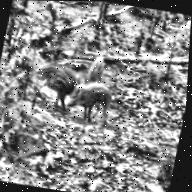boar: (32, 47, 87, 106), (67, 74, 113, 118), (82, 50, 105, 85)
